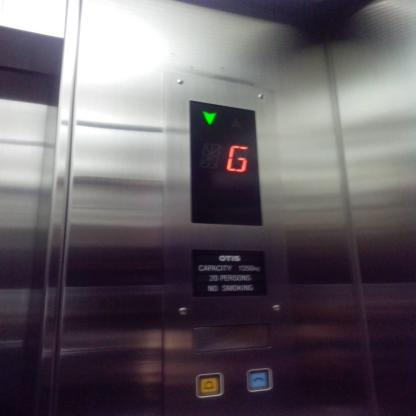alarm: (195, 373, 222, 398)
call: (245, 368, 273, 392)
led: (184, 95, 265, 230)
